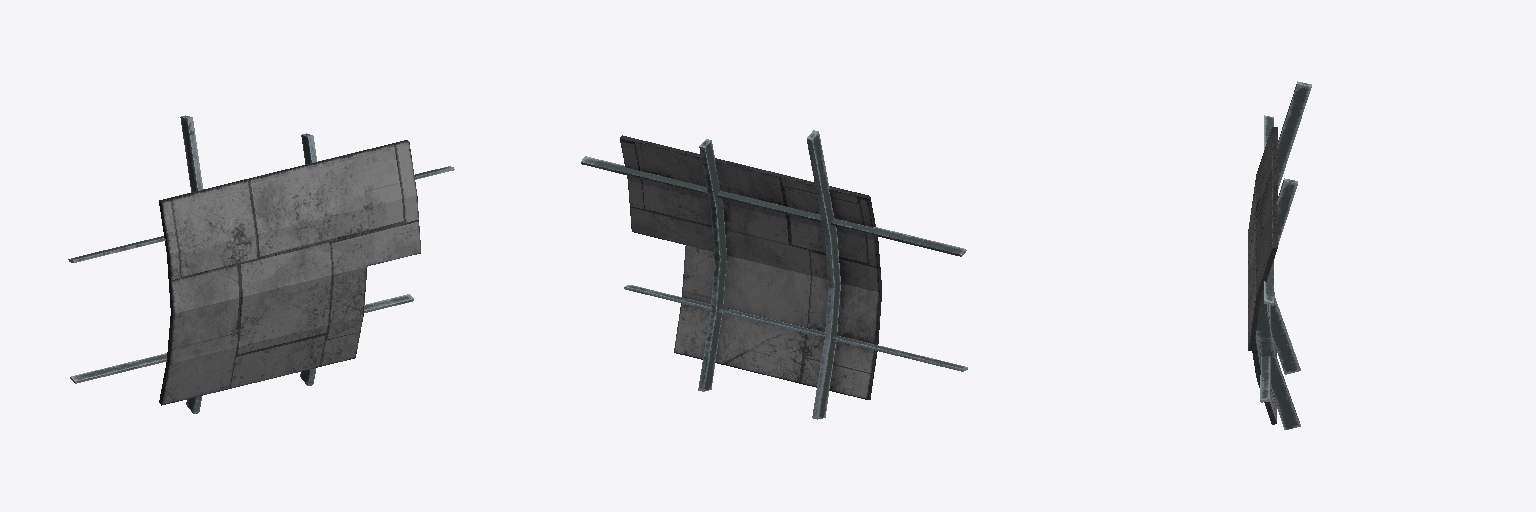
The picture shows the model from 3 angles: view 1: azimuth 30°, elevation 25°; view 2: azimuth 150°, elevation 25°; view 3: azimuth 270°, elevation 25°; orthographic projection.
Parts seen in each view (by area): view 1: st_space_debris_012.mo_space_debris_03; view 2: st_space_debris_012.mo_space_debris_03; view 3: st_space_debris_012.mo_space_debris_03.
Part boxes in pixels (left/top/right/bottom): st_space_debris_012.mo_space_debris_03: left=68, top=115, right=454, bottom=413; st_space_debris_012.mo_space_debris_03: left=581, top=130, right=967, bottom=419; st_space_debris_012.mo_space_debris_03: left=1248, top=81, right=1311, bottom=429.
Size of the model in its own units: 12.91 by 9.42 by 1.86.
Materials: 1 (1 with a texture image).